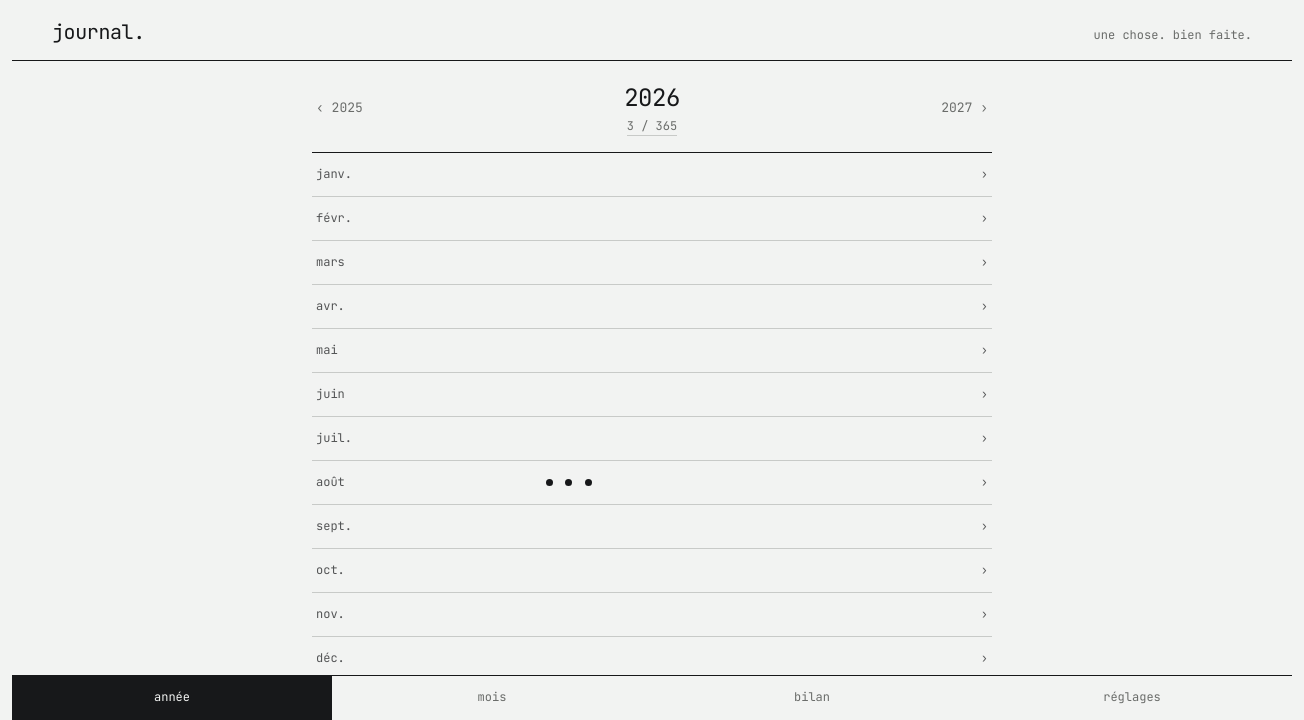
Test: JournalApp › rend les quatre humeurs, même celles à zéro
Click the button "bilan" at (812, 698), box [652,676,972,719]
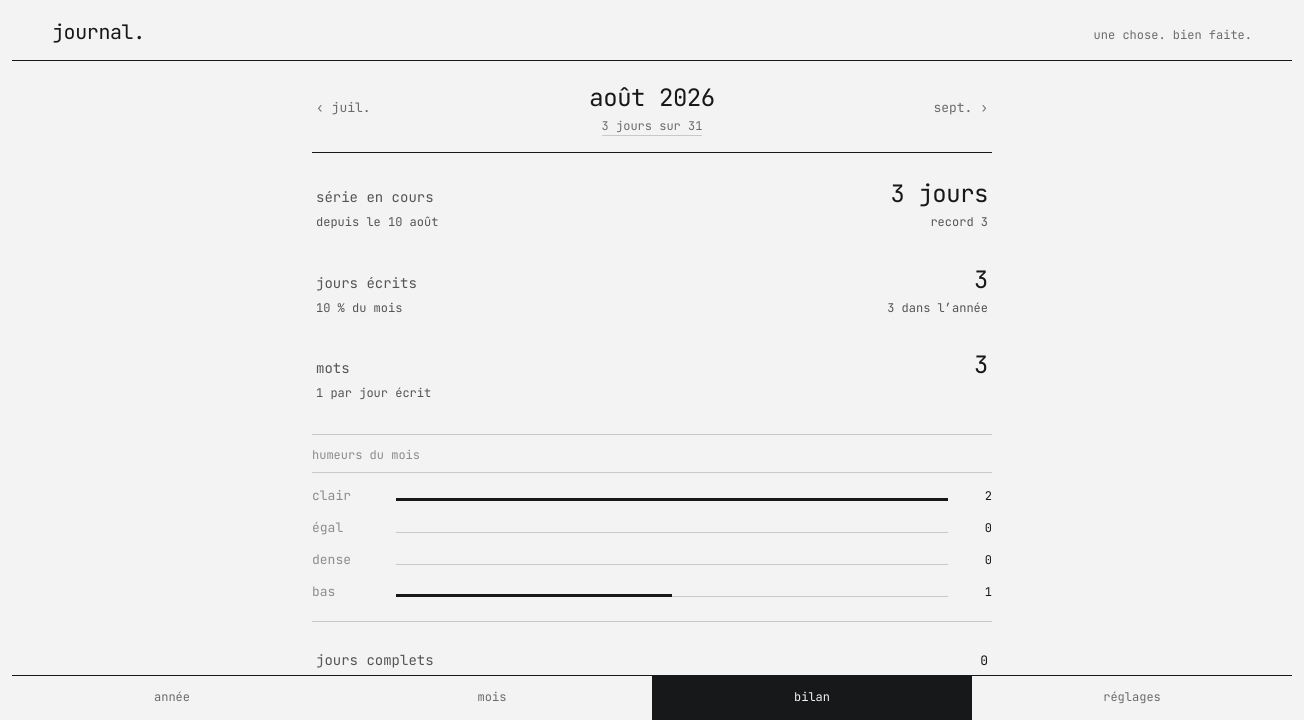
Now the text "clair" is shown, box [312,487,351,504]
Now the text "égal" is shown, box [312,519,343,536]
Now the text "dense" is shown, box [312,551,351,568]
